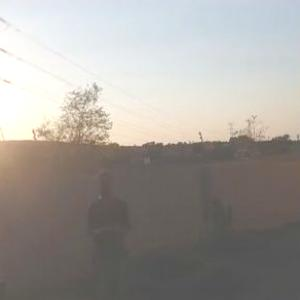follow: (83, 164, 141, 299)
